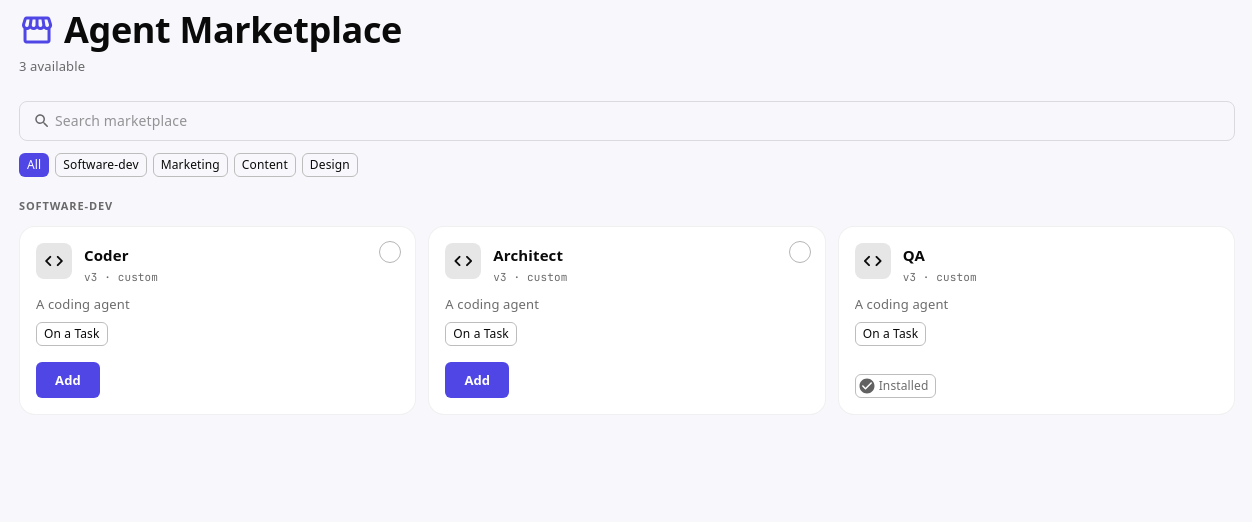
Test: Marketplace page › Select all picks every installable agent and Clear empties the selection
This screenshot has width=1252, height=522.
Check: the text "Coder" is shown, box left=84, top=245, right=129, bottom=265
Note: Reveal the bar by picking one, then Select all grabs the rest.
Click the checkbox named "Select Coder". click: (390, 252)
box: left=379, top=241, right=401, bottom=263
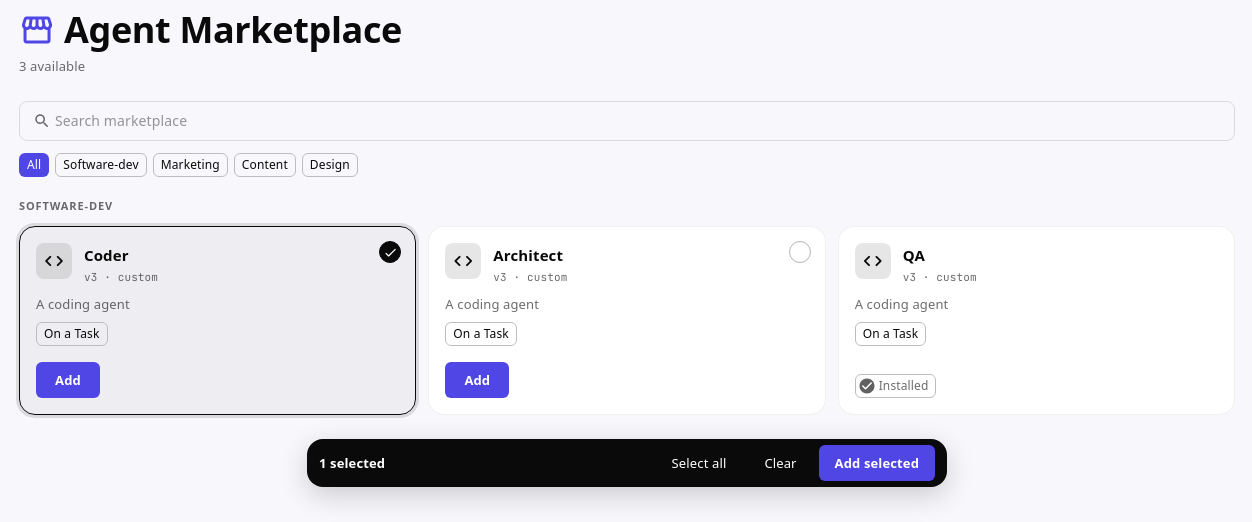
Click the button "Select all". click: (699, 463)
box: left=656, top=445, right=742, bottom=481
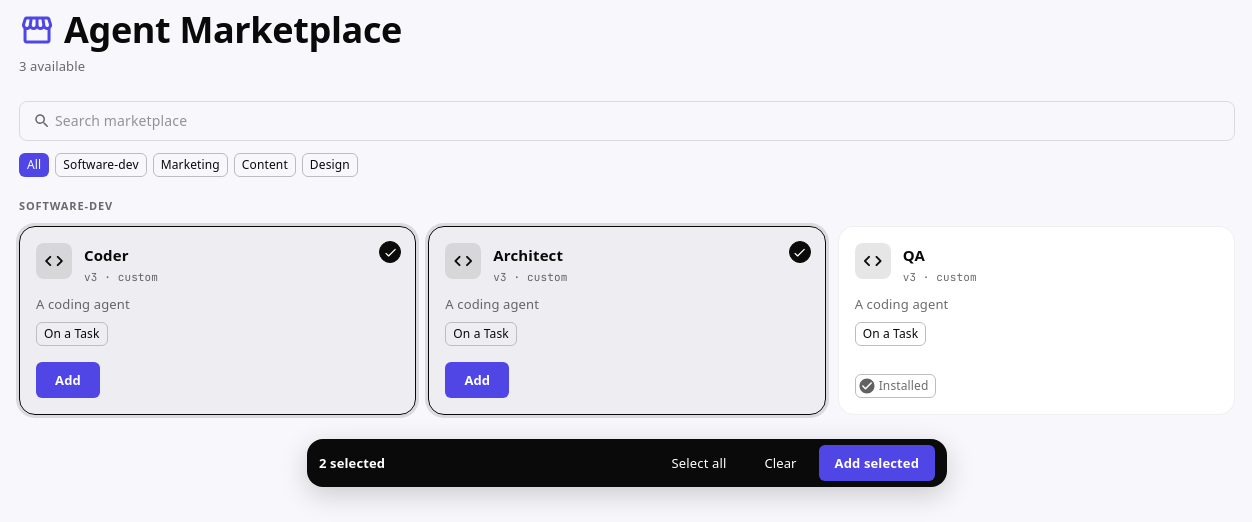
Check: the text "2 selected" is shown, box left=319, top=454, right=385, bottom=472
Click the button "Clear". click: (780, 463)
box: left=748, top=445, right=813, bottom=481
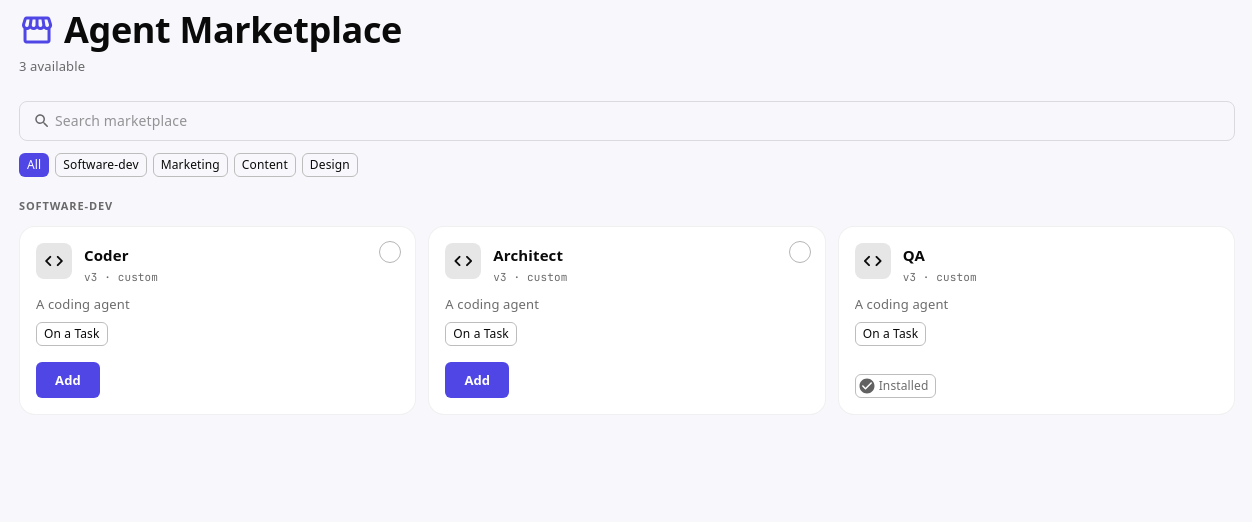
Check: the text "selected" is gone
